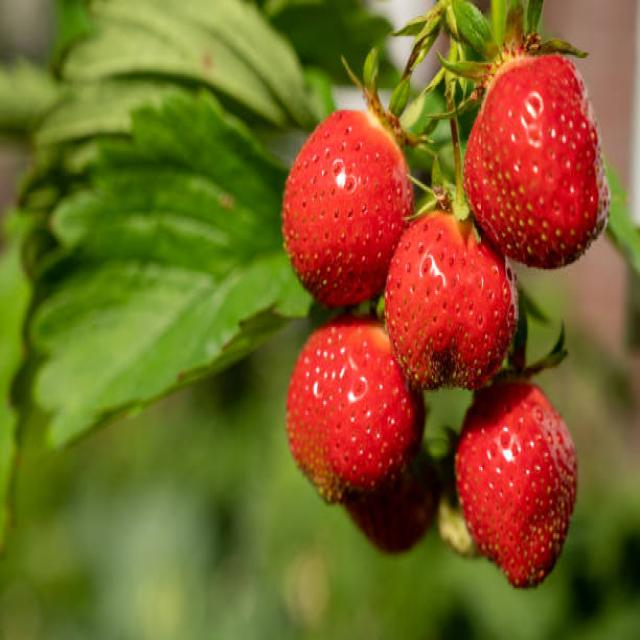Healthy Fruit: (464, 52, 610, 269), (286, 311, 426, 502), (281, 109, 417, 304), (454, 380, 576, 590), (386, 207, 520, 393)
